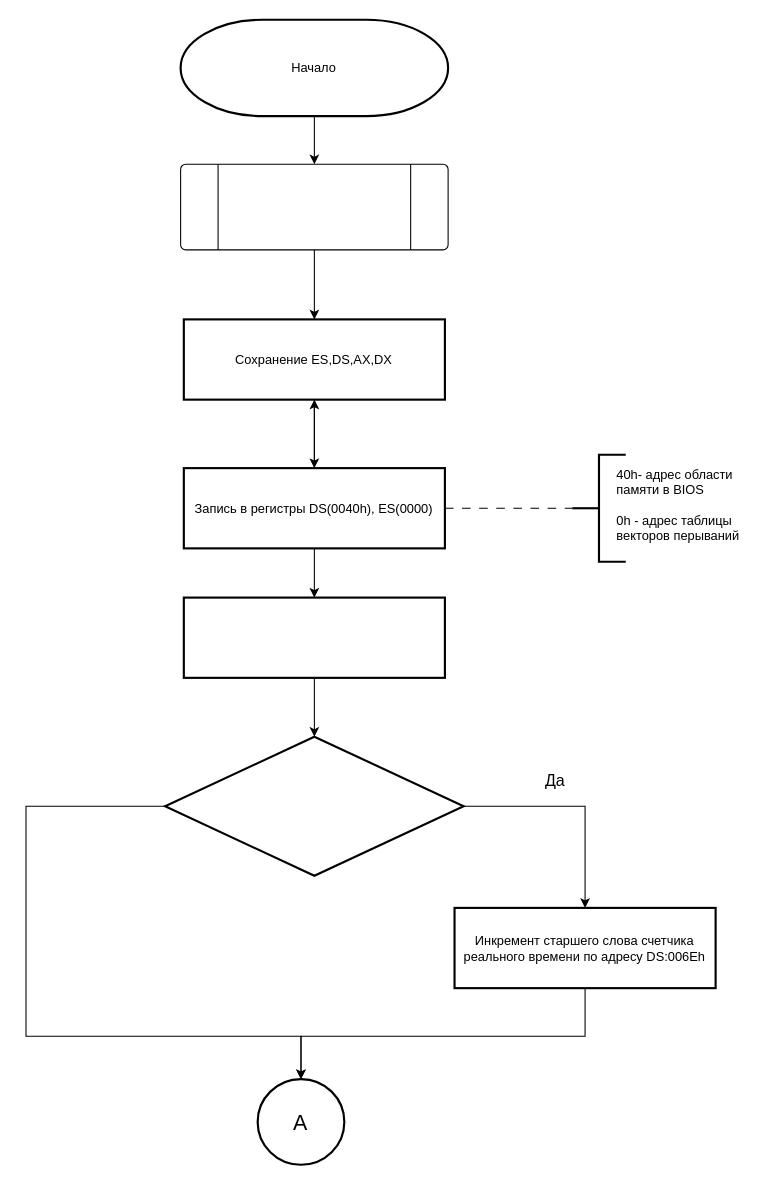
This 783x1183 diagram has some shape labels left out. Here are the shapes that lost their labels. From the top down, the box of each, then its label:
(180, 163, 448, 250): Вызов подпрограммы sub_01
(182, 596, 445, 678): Инкремент младшего слова счетчика реального времени по адресу DS:006Ch
(163, 735, 464, 876): Младшее слово счетчика реального времени по адресу DS:006Ch == 0?
